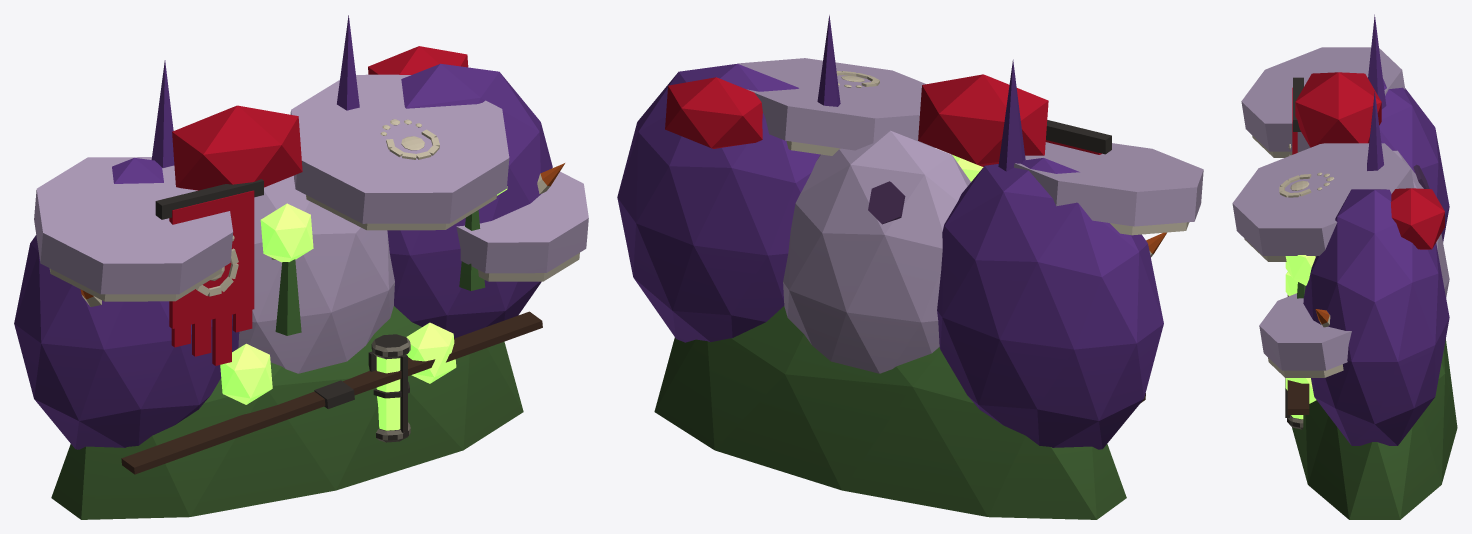
File: sb_wall_chunks.glb
3 views of the same model, side by side, from view 1: azimuth 30°, elevation 25°; view 2: azimuth 150°, elevation 25°; view 3: azimuth 270°, elevation 25° (orthographic). The views are drawn at different scales.
Parts seen in each view (by area): view 1: chunk_3, chunk_2, chunk_0, chunk_1, chunk_5, chunk_4; view 2: chunk_3, chunk_2, chunk_0, chunk_1, chunk_4, chunk_5; view 3: chunk_5, chunk_3, chunk_4, chunk_1, chunk_2.
Boxes of the visible parts, x1,y1,x2,y2 form: chunk_3: [114, 15, 508, 337]; chunk_2: [179, 262, 453, 511]; chunk_0: [14, 313, 219, 519]; chunk_1: [16, 157, 179, 342]; chunk_5: [385, 46, 588, 268]; chunk_4: [423, 244, 586, 462]; chunk_3: [731, 15, 1159, 315]; chunk_2: [753, 260, 970, 504]; chunk_0: [918, 315, 1163, 519]; chunk_1: [970, 151, 1203, 337]; chunk_4: [619, 208, 779, 470]; chunk_5: [617, 58, 805, 260]; chunk_5: [1258, 188, 1449, 370]; chunk_3: [1232, 14, 1445, 272]; chunk_4: [1262, 325, 1449, 519]; chunk_1: [1245, 47, 1447, 207]; chunk_2: [1285, 258, 1457, 466].
Bounding box in the file's own units: 2.2 × 1.66 × 0.9304.
